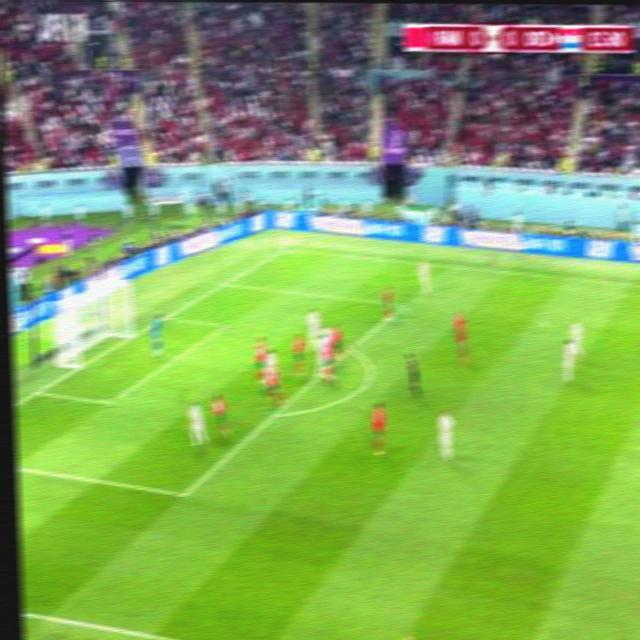bigarea_bottom_inner: (175, 486, 190, 503)
bigarea_top_inner: (393, 299, 409, 313)
bigarea_top_outter: (219, 280, 230, 288)
bottom_arc_area_intersection: (266, 407, 282, 424)
corner: (278, 247, 290, 253)
smallarea_bottom_inner: (102, 396, 117, 409)
smallarea_bottom_outter: (31, 387, 43, 398)
smallarea_top_inner: (218, 320, 232, 335)
smallarea_top_outter: (161, 313, 172, 322)
top_arc_area_intersection: (344, 343, 356, 356)
